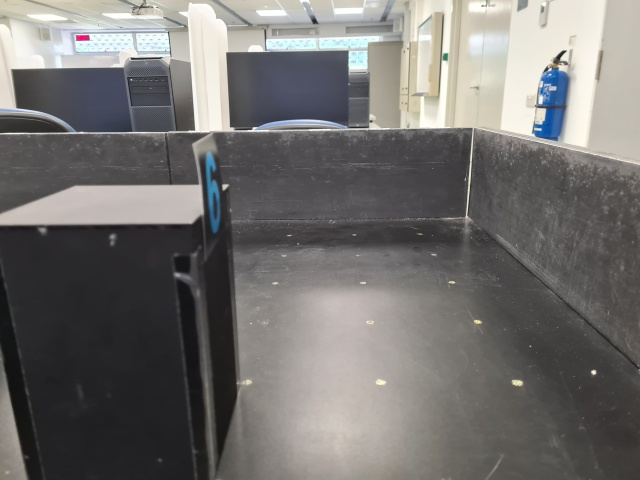six: (193, 132, 228, 263)
